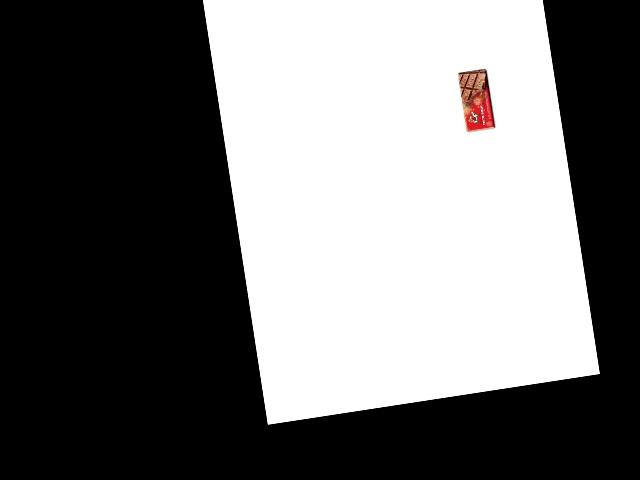chocolate: (456, 66, 496, 133)
